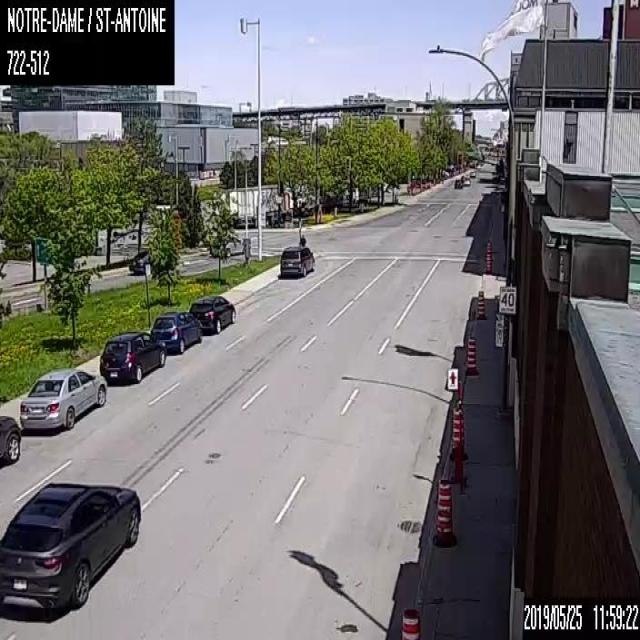construction: (432, 477, 455, 544), (449, 408, 466, 460), (399, 606, 420, 638), (464, 338, 476, 373), (476, 289, 486, 319), (484, 241, 491, 272)
pedestrian: (299, 235, 305, 245)
vehicle: (0, 482, 140, 622), (19, 367, 107, 430), (99, 330, 166, 384), (150, 310, 202, 354), (188, 294, 235, 332), (279, 244, 314, 275), (0, 414, 21, 463), (128, 250, 154, 274), (222, 235, 244, 257), (453, 177, 462, 188), (462, 176, 470, 185), (469, 170, 475, 177)
